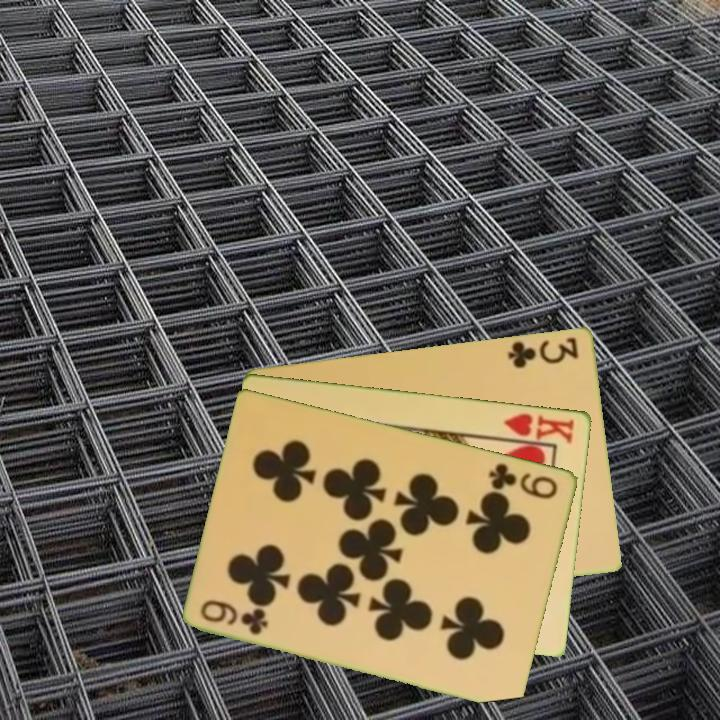3c: (505, 333, 582, 371)
9c: (486, 459, 561, 502), (197, 595, 272, 638)
Kh: (495, 409, 578, 445)
